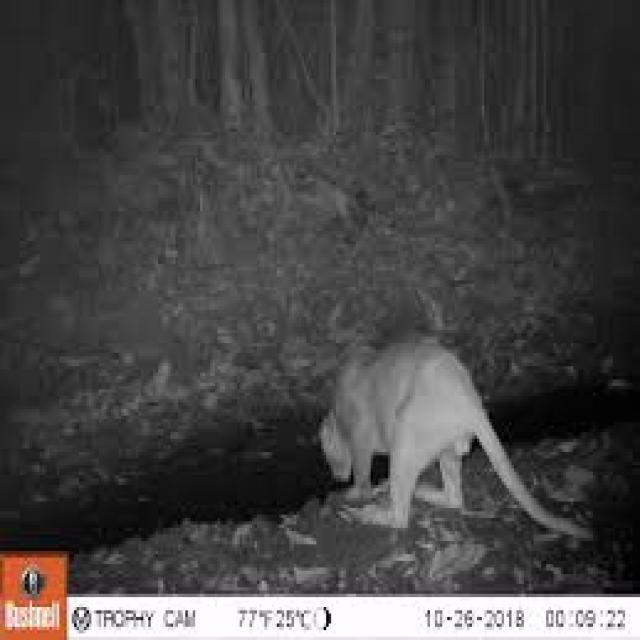Jaguar: (319, 340, 598, 551)
